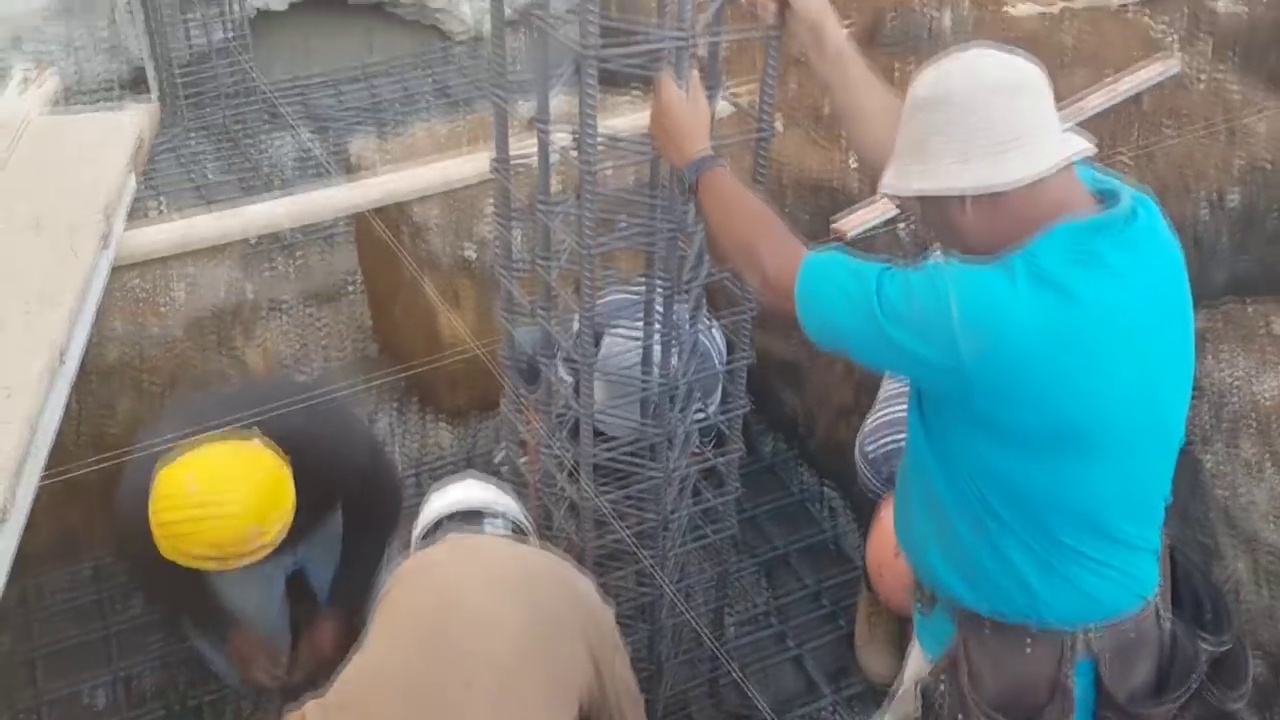helmet: (140, 438, 300, 575), (406, 481, 534, 554)
helmet-off: (876, 37, 1121, 261)
helmet-on: (134, 428, 300, 584), (405, 465, 544, 554)
person: (650, 2, 1199, 704), (107, 368, 397, 696), (289, 478, 644, 718)
